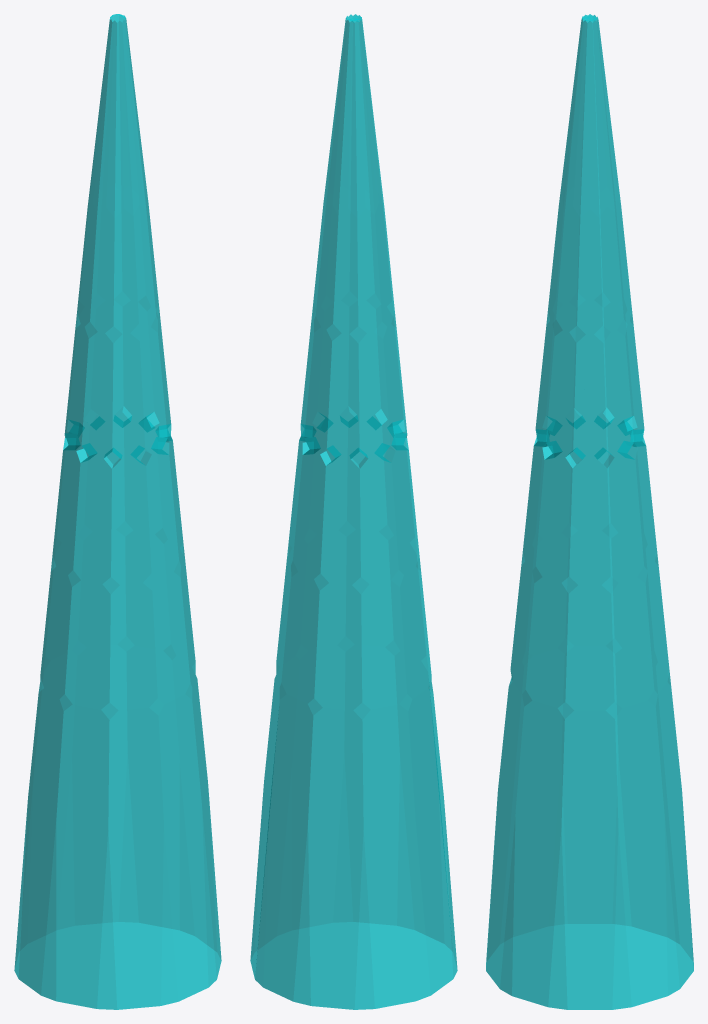
Rendered from Ice2.fbx.
The picture shows the model from 3 angles, left to right: view 1: azimuth 30°, elevation 25°; view 2: azimuth 150°, elevation 25°; view 3: azimuth 270°, elevation 25°; orthographic projection.
Visible parts, largest first — view 1: Cylinder.002; view 2: Cylinder.002; view 3: Cylinder.002.
Boxes of the visible parts, bbox=[...] form: Cylinder.002: bbox=[14, 14, 221, 1009]; Cylinder.002: bbox=[250, 14, 457, 1009]; Cylinder.002: bbox=[486, 14, 693, 1009].
Bounding box in the file's own units: 77.43 × 398 × 78.89.
